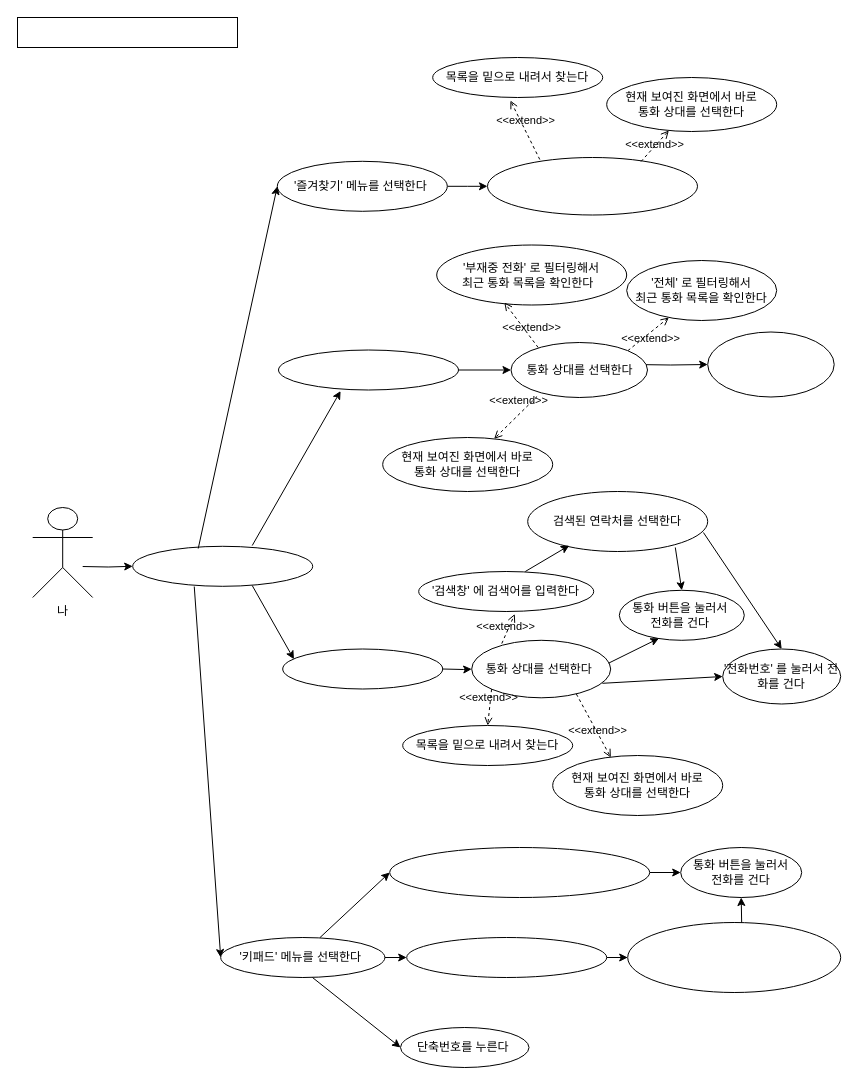
Some shapes in this 859 by 1085 pixel diagram are drawn without their labels. The shapes that lost their labels are listed below. From the top down, each one's box as (x1, y1, x2, y2) in pixels, then its label:
(16, 16, 238, 48): 주제 : 전화앱을 통해서 전화를 건다
(486, 156, 698, 215): 통화 상대를 선택한다 ( 선택하는게 전화 거는것을 의미함 )
(278, 349, 458, 390): '최근 통화' 메뉴를 선택한다
(707, 331, 834, 397): 전화를 건다
(132, 545, 313, 586): 전화 어플리케이션을 실행한다
(282, 648, 443, 689): '연락처' 메뉴를 선택한다
(389, 846, 650, 898): 통화 상대의 번호를 처음부터 끝까지 입력한다
(406, 936, 607, 978): 빈 화면에서 통화 아이콘을 누른다
(627, 922, 841, 992): 화면에 가장 최근에 발신했던 번호가 자동 완성이 되어서 뜬 걸 확인한다
